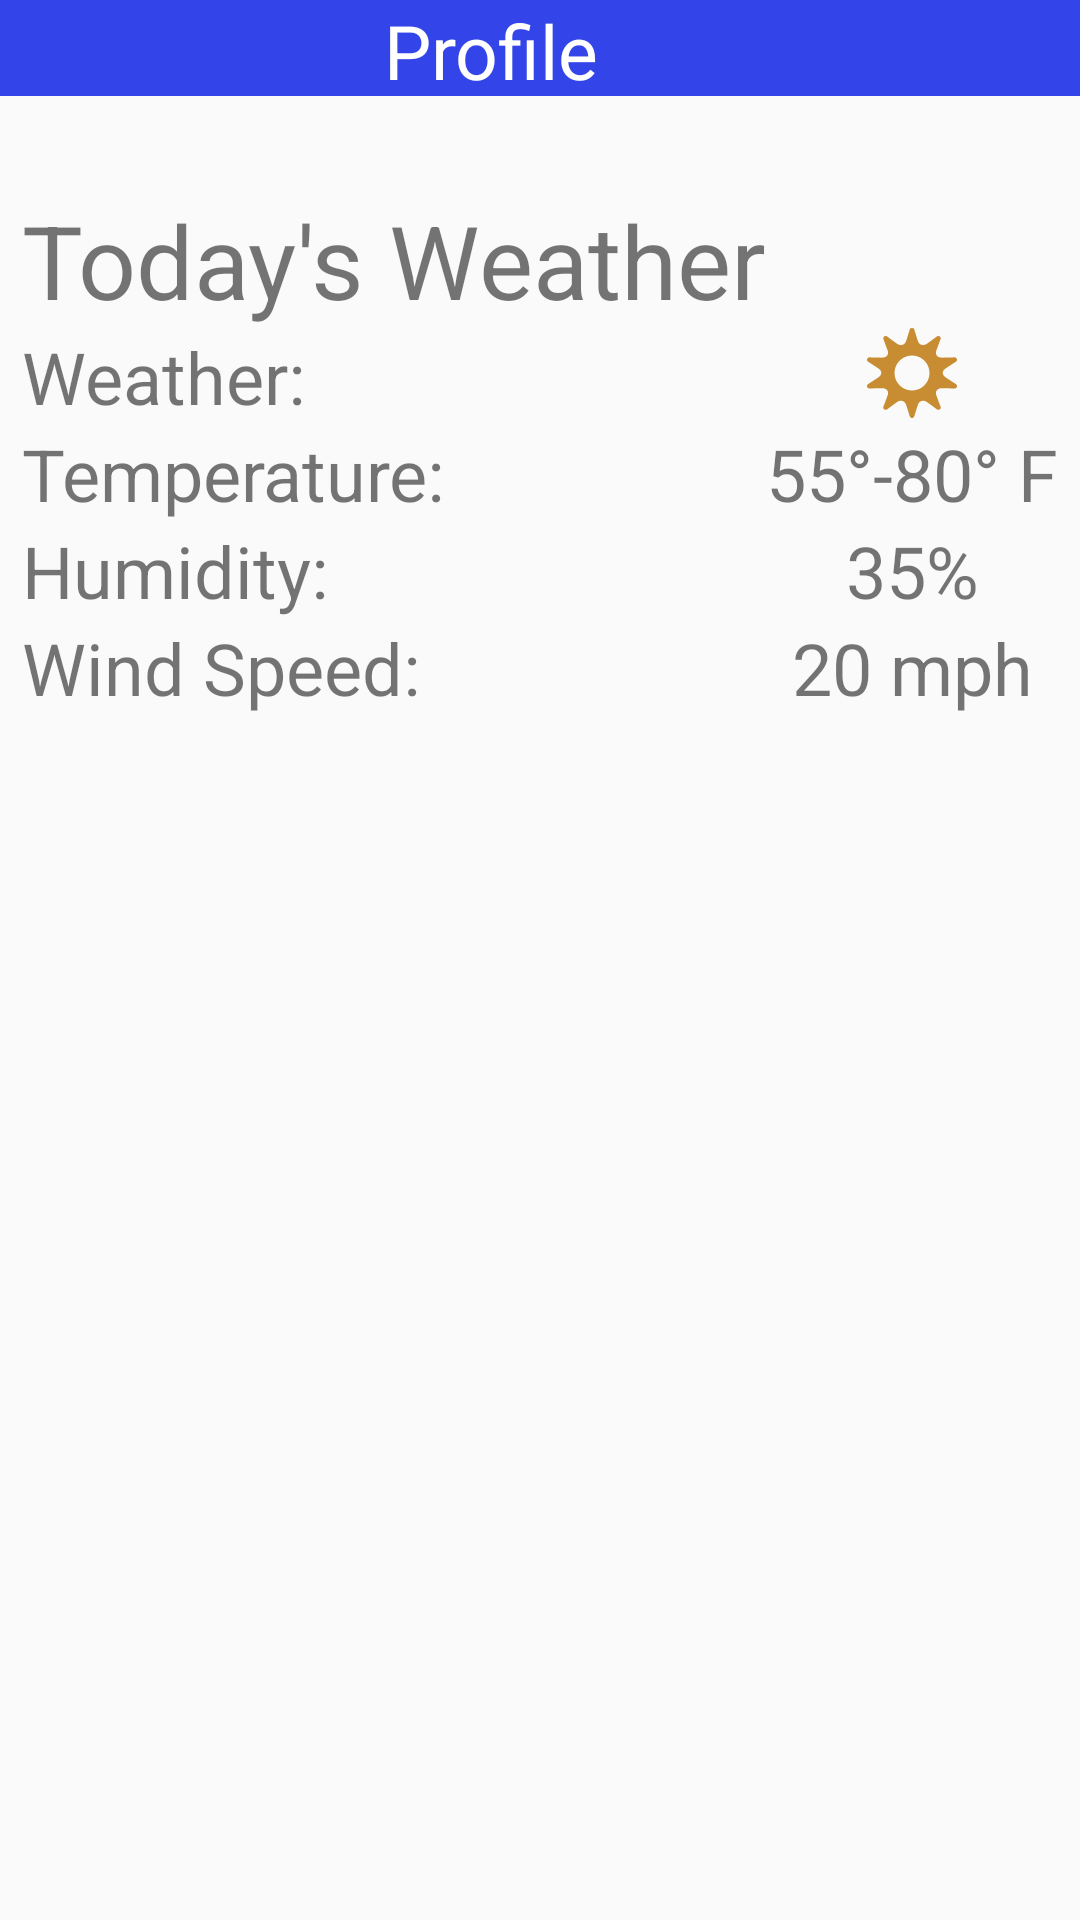

Icons on this 1080×1920 Android screen, each with its box as (x1,y1,x2,y2):
clear: (867,328,957,418)
